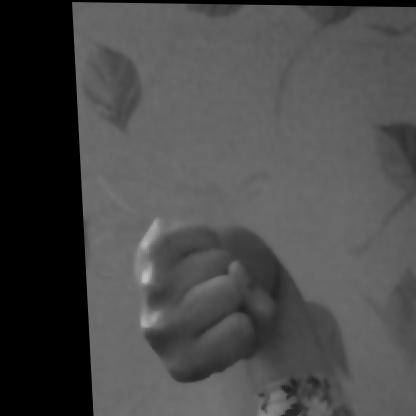fist: (103, 179, 348, 408)
